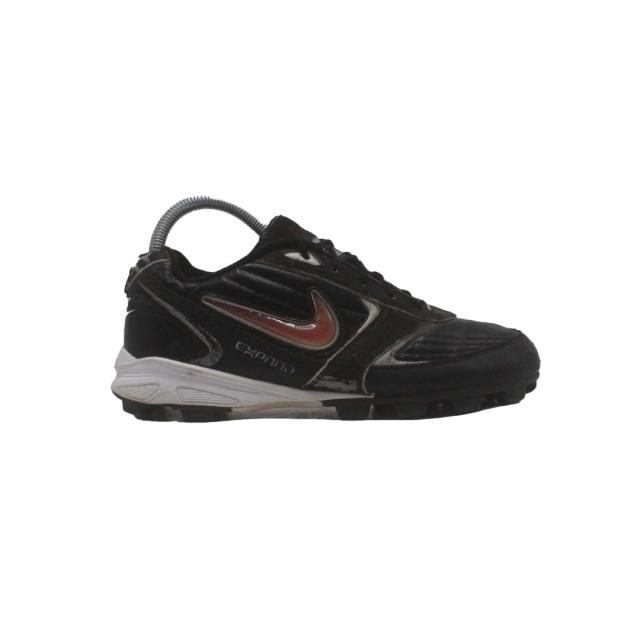heel: (125, 254, 178, 357)
midsole: (111, 356, 538, 421)
uppersole: (168, 214, 541, 391)
